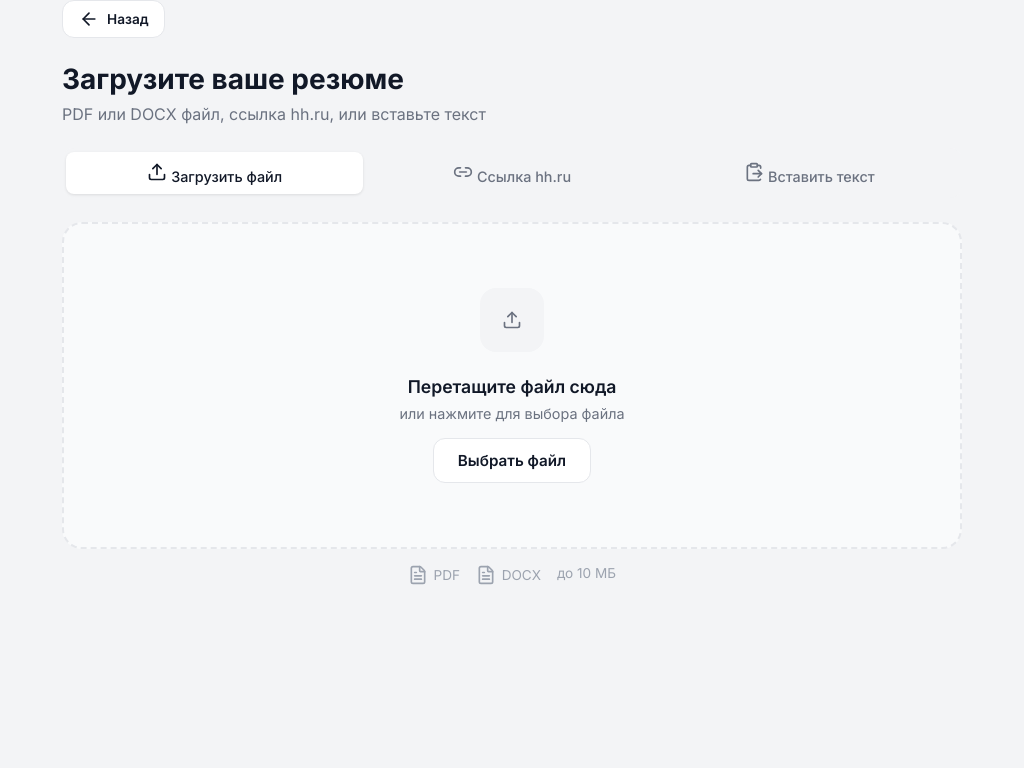
it: UploadPage v2 - hh.ru URL › shows error when both URL parse methods fail
Step 1. Click the text "Ссылка hh.ru" → [524, 176], box [477,168,571,185]
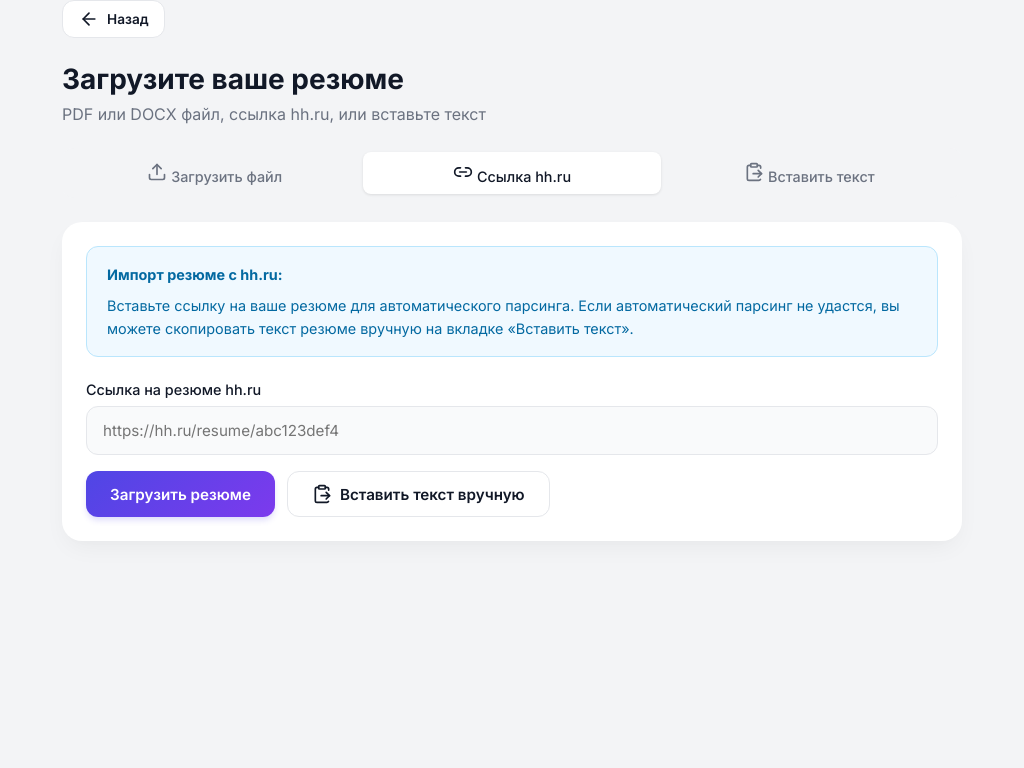
Step 2. Type "https://hh.ru/resume/bad" into the field with placeholder "https://hh.ru/resume/abc123def4" → [512, 431], box [86,406,938,455]
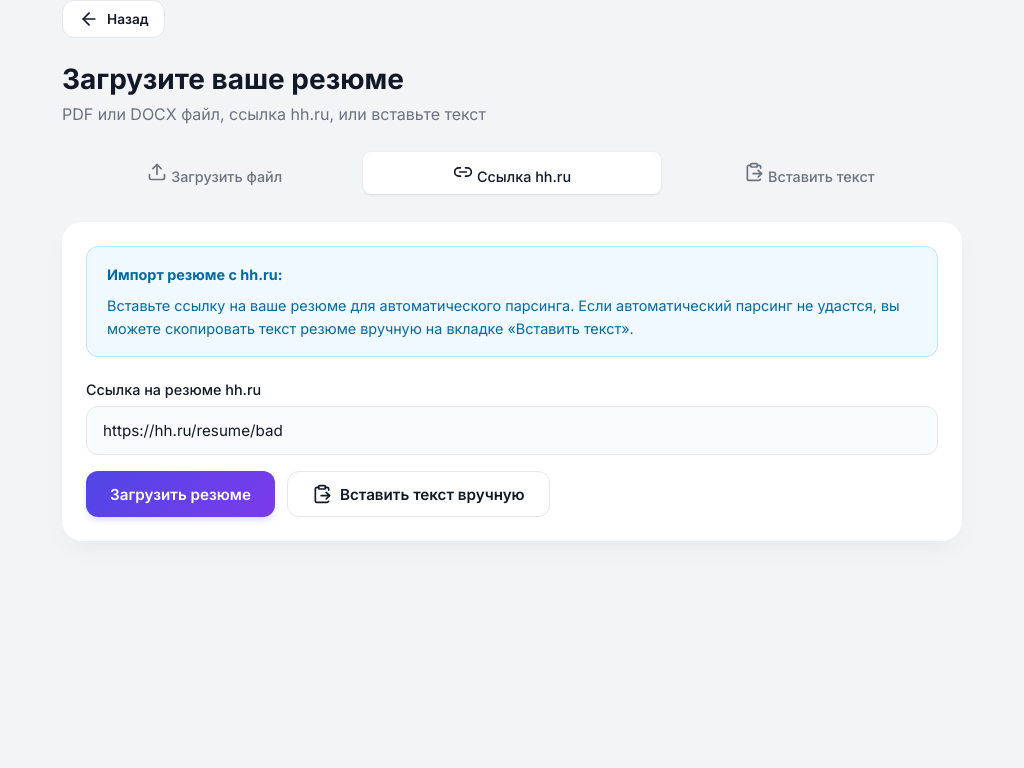
Step 3. Click the button "Загрузить резюме" → [180, 494], box [86,471,275,517]
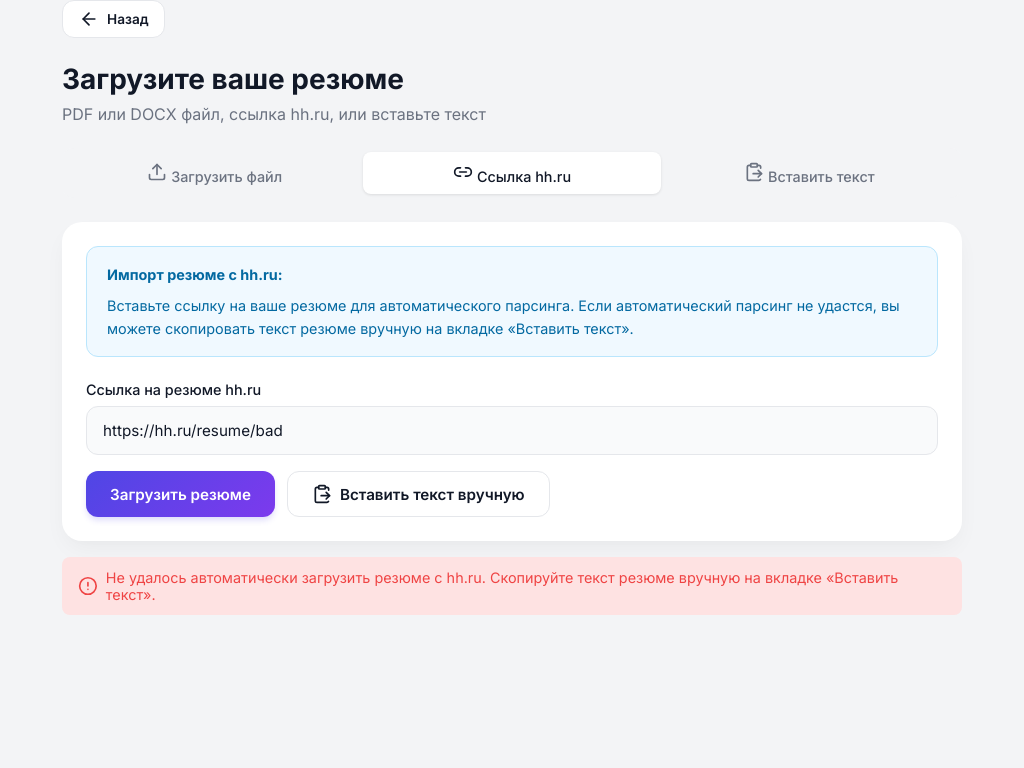
Expected: the text "Не удалось автоматически загрузить" is shown, [106,569,898,603]
